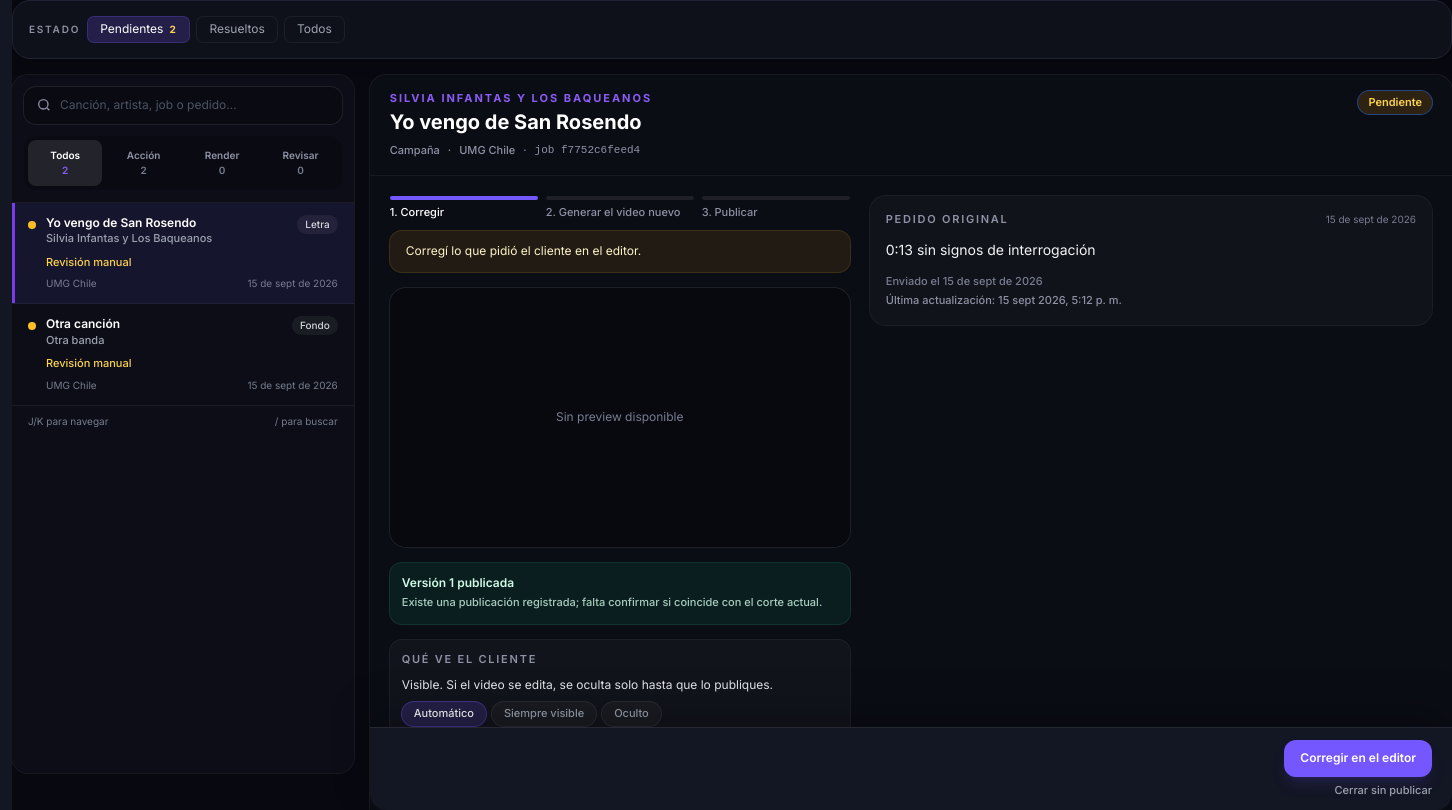
Test: ChangeRequestsPanel › uses a compact queue and preserves the selected request in the URL
expect the heading "Yo vengo de San Rosendo" is shown: met, box [390, 110, 652, 135]
Click the option "Otra canción".
click(83, 324)  # box [12, 304, 354, 405]
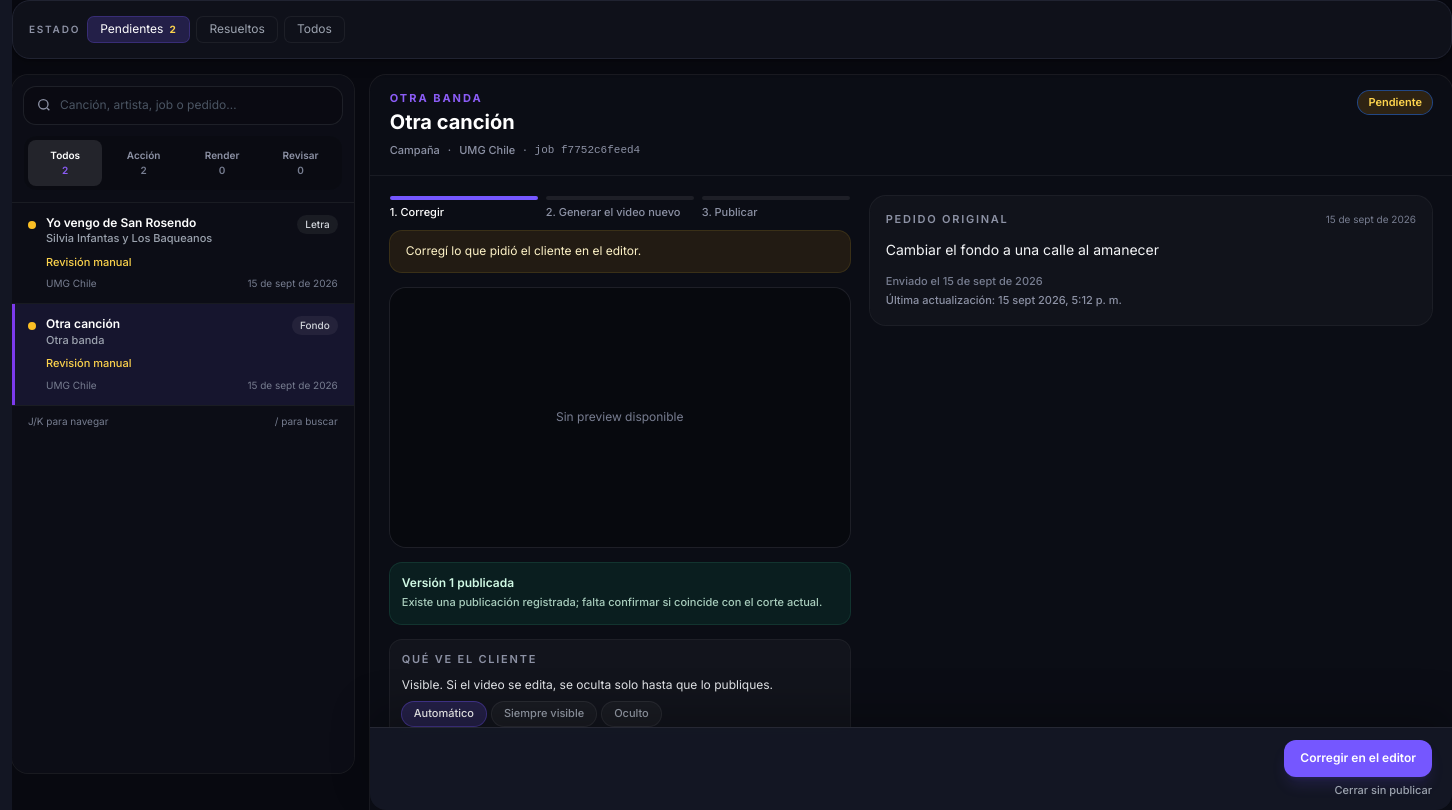
expect the heading "Otra canción" is shown: met, box [390, 110, 515, 134]
